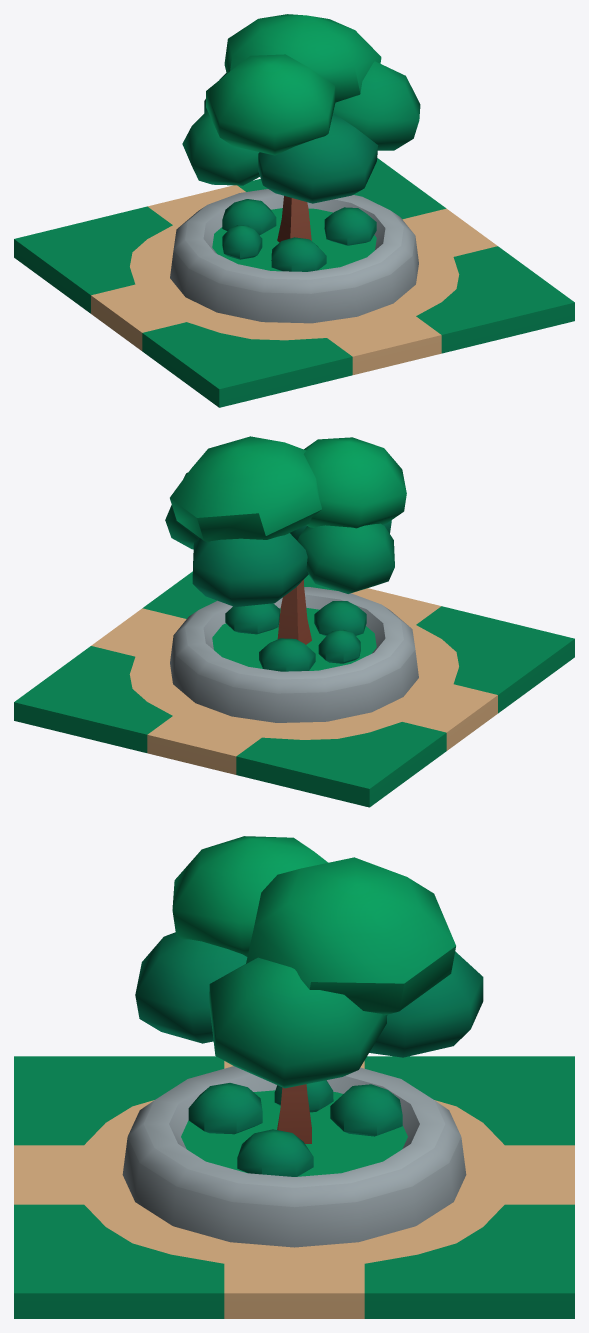
The model's file is park_road_junction_decorated_B.glb.
3 views of the same model, one above another, from view 1: azimuth 30°, elevation 25°; view 2: azimuth 150°, elevation 25°; view 3: azimuth 270°, elevation 25° (orthographic). The views are drawn at different scales.
Visible parts, largest first — view 1: park_road_junction_decorated_B; view 2: park_road_junction_decorated_B; view 3: park_road_junction_decorated_B.
Boxes of the visible parts, x1=… form: park_road_junction_decorated_B: x1=14, y1=14, x2=574, y2=407; park_road_junction_decorated_B: x1=14, y1=436, x2=574, y2=807; park_road_junction_decorated_B: x1=14, y1=836, x2=574, y2=1318.
Bounding box in the file's own units: 2 × 1.34 × 2.
1 material, 1 textured.
